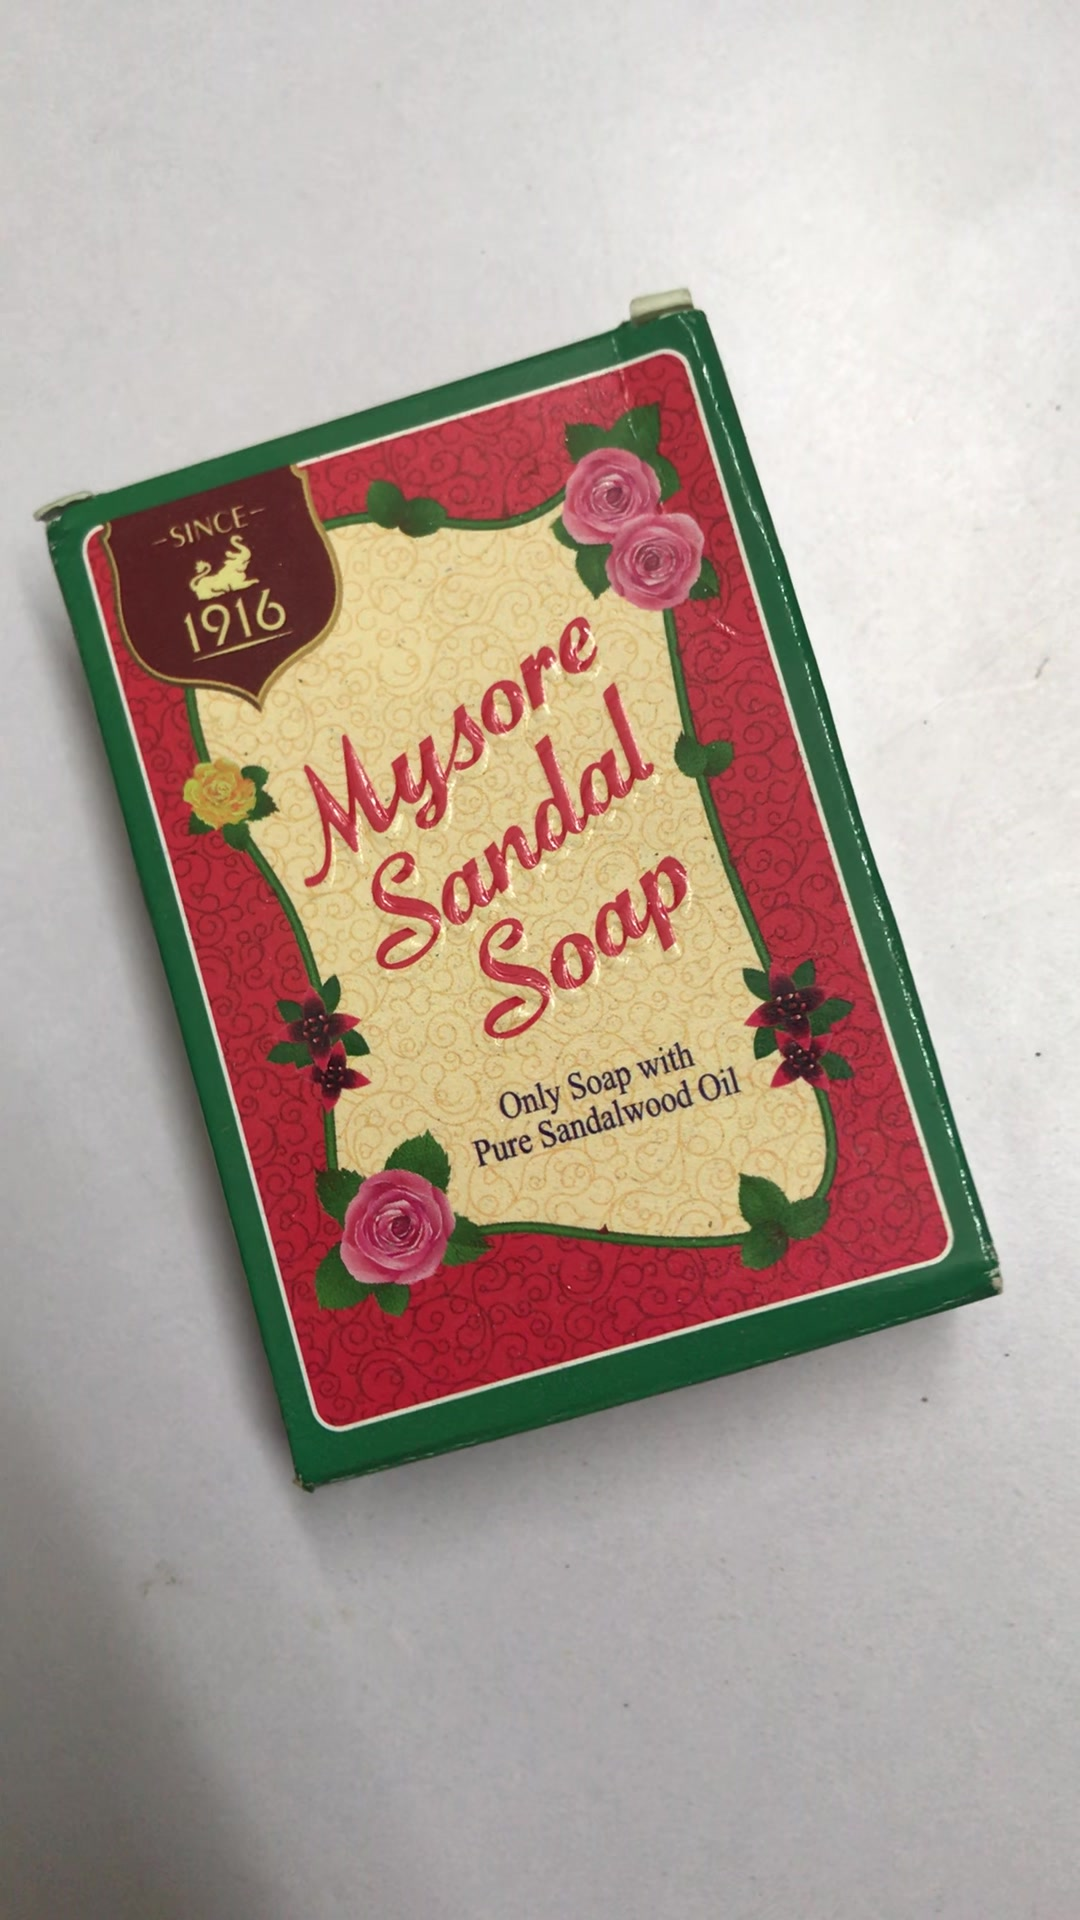mysore sandal soap: (40, 319, 1000, 1490)
